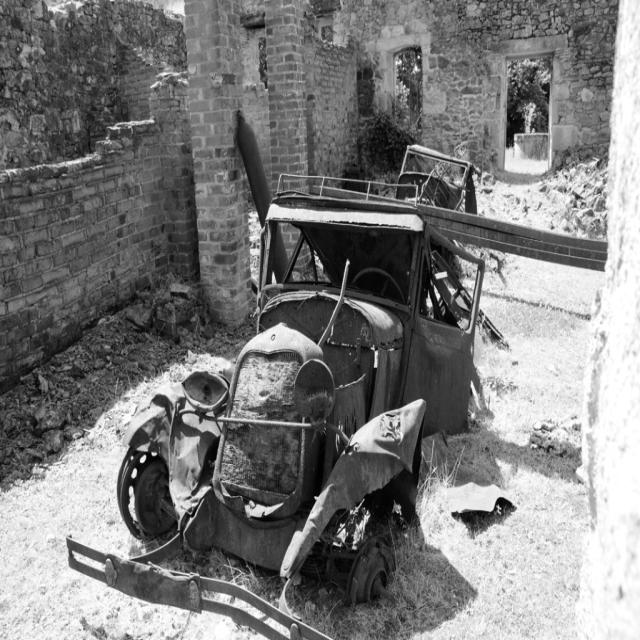car: (62, 166, 486, 638)
